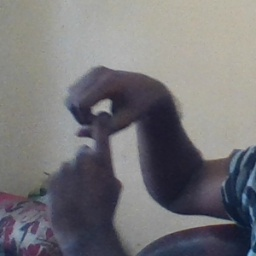Q: (39, 63, 160, 211)
